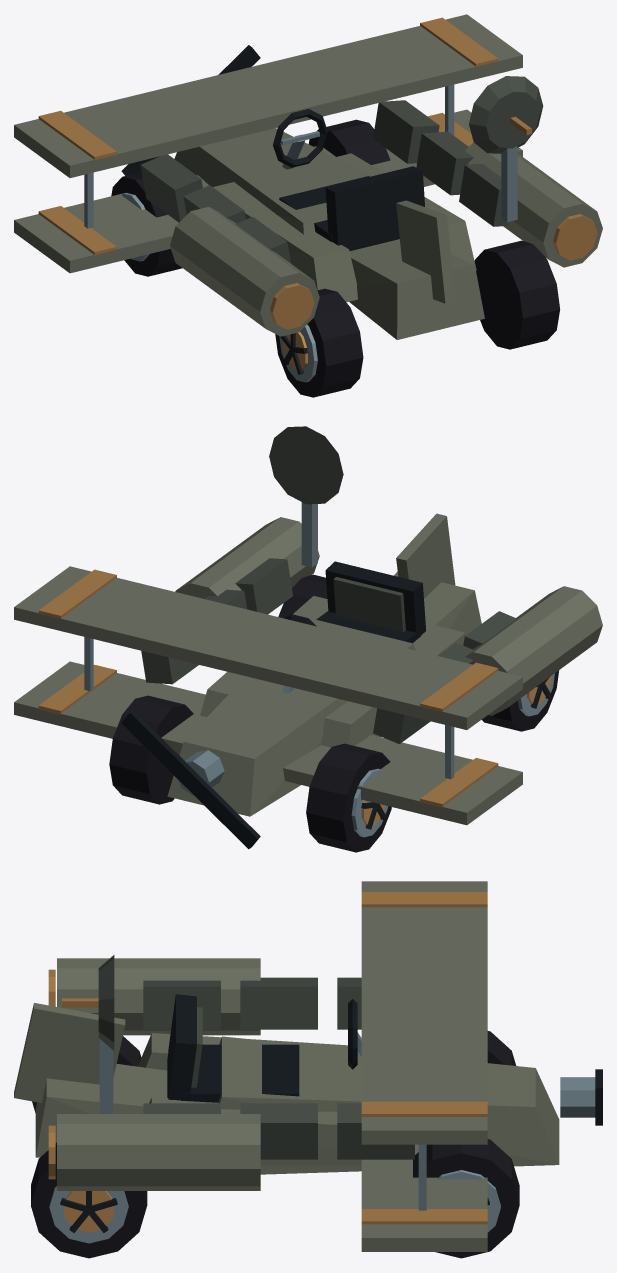
Rendered from kart.glb.
3 views of the same model, one above another, from view 1: azimuth 30°, elevation 25°; view 2: azimuth 150°, elevation 25°; view 3: azimuth 270°, elevation 25° (orthographic). The views are drawn at different scales.
Visible parts, largest first — view 1: identity-biplane-biplane-dual-wings-and-propeller, identity-biplane-motif-engine-pods, identity-biplane-motif-armor, identity-biplane-driver-cockpit, wheel-rear-right, wheel-rear-left, identity-biplane-motif-radar, wheel-front-right, wheel-front-left; view 2: identity-biplane-biplane-dual-wings-and-propeller, identity-biplane-motif-engine-pods, wheel-front-left, identity-biplane-driver-cockpit, identity-biplane-motif-armor, identity-biplane-motif-radar, wheel-front-right, wheel-rear-left, wheel-rear-right; view 3: identity-biplane-biplane-dual-wings-and-propeller, identity-biplane-motif-engine-pods, identity-biplane-motif-armor, identity-biplane-driver-cockpit, wheel-rear-right, wheel-front-right, identity-biplane-motif-radar, wheel-front-left, wheel-rear-left.
Boxes of the visible parts, x1,y1,x2,y2 form: identity-biplane-biplane-dual-wings-and-propeller: (14,14,522,339); identity-biplane-motif-engine-pods: (170,142,602,336); identity-biplane-motif-armor: (140,100,508,263); identity-biplane-driver-cockpit: (273,109,424,250); wheel-rear-right: (474,240,560,349); wheel-rear-left: (275,288,363,397); identity-biplane-motif-radar: (469,76,543,222); wheel-front-right: (308,119,390,164); wheel-front-left: (111,172,182,276); identity-biplane-biplane-dual-wings-and-propeller: (14,513,522,849); identity-biplane-motif-engine-pods: (175,517,602,715); wheel-front-left: (306,743,391,852); identity-biplane-driver-cockpit: (282,561,426,693); identity-biplane-motif-armor: (141,558,516,744); identity-biplane-motif-radar: (269,426,343,567); wheel-front-right: (109,695,193,804); wheel-rear-left: (481,670,559,731); wheel-rear-right: (278,574,327,618); identity-biplane-biplane-dual-wings-and-propeller: (14,881,602,1251); identity-biplane-motif-engine-pods: (48,958,260,1190); identity-biplane-motif-armor: (143,977,414,1159); identity-biplane-driver-cockpit: (167,994,361,1102); wheel-rear-right: (31,1142,147,1258); wheel-front-right: (413,1139,519,1258); identity-biplane-motif-radar: (62,955,114,1113); wheel-front-left: (487,1031,516,1065); wheel-rear-left: (32,1036,141,1112).
Size of the model in its own units: 3.04 by 1.65 by 3.04.
